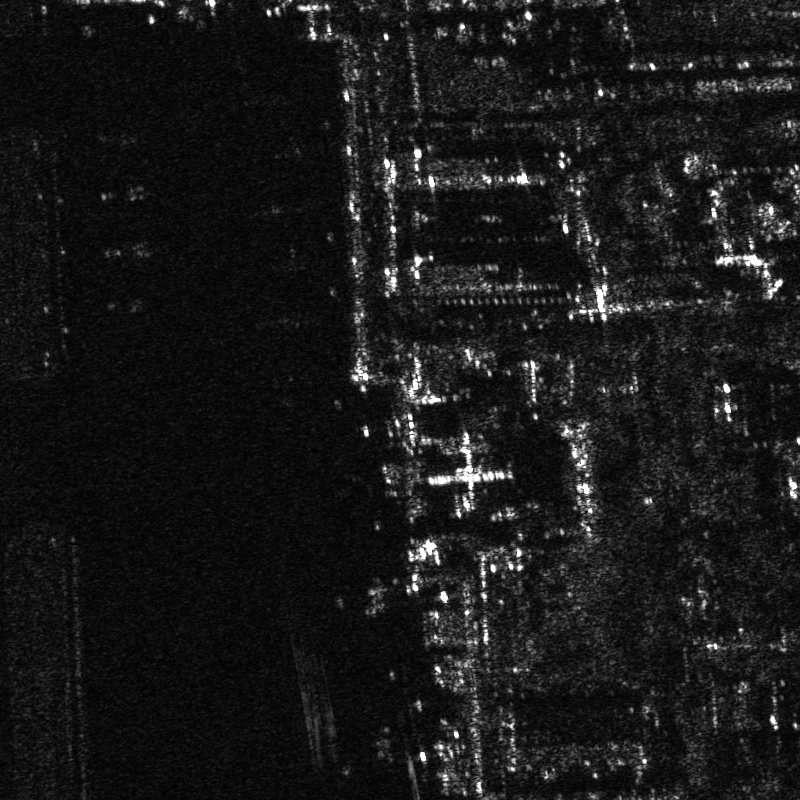ARJ21: (93, 237, 163, 266), (101, 290, 155, 319)
other: (96, 175, 157, 210)
